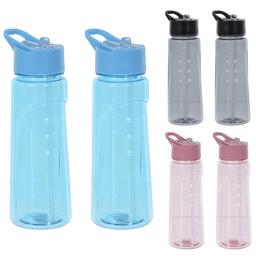plastic: (76, 20, 161, 224), (2, 15, 78, 235), (195, 124, 256, 256), (149, 0, 214, 121), (152, 135, 213, 256), (205, 0, 256, 134)
